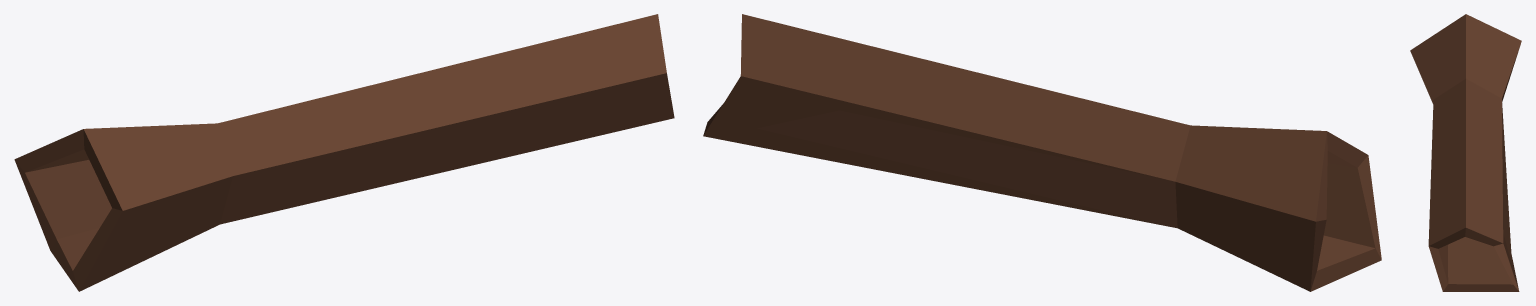
The model's file is Trunk_01.glb.
3 renders of one model, left to right at view 1: azimuth 30°, elevation 25°; view 2: azimuth 150°, elevation 25°; view 3: azimuth 270°, elevation 25°, orthographic. The views are drawn at different scales.
Visible parts, largest first — view 1: Trunk_01; view 2: Trunk_01; view 3: Trunk_01.
Boxes of the visible parts, x1,y1,x2,y2 form: Trunk_01: (14,14,674,291); Trunk_01: (703,14,1381,291); Trunk_01: (1410,14,1521,291).
Size of the model in its own units: 4.66 by 1.02 by 1.07.
